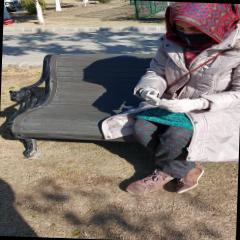gloved: (158, 99, 200, 113), (139, 87, 168, 107)
